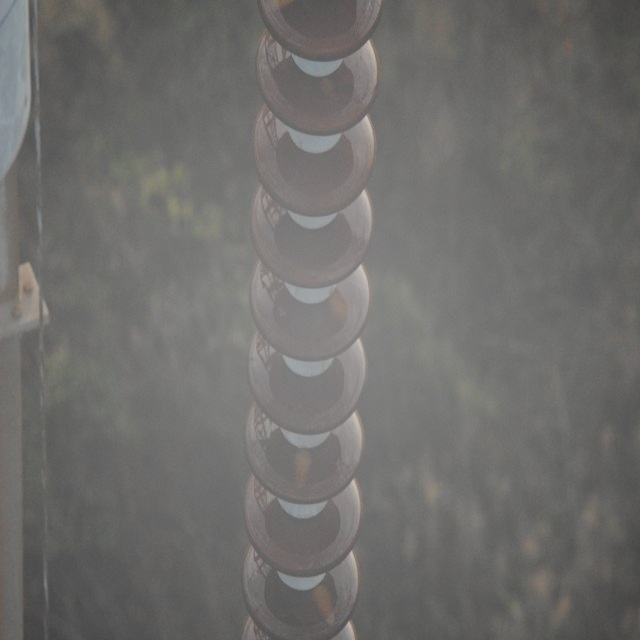insulator: (240, 0, 382, 637)
